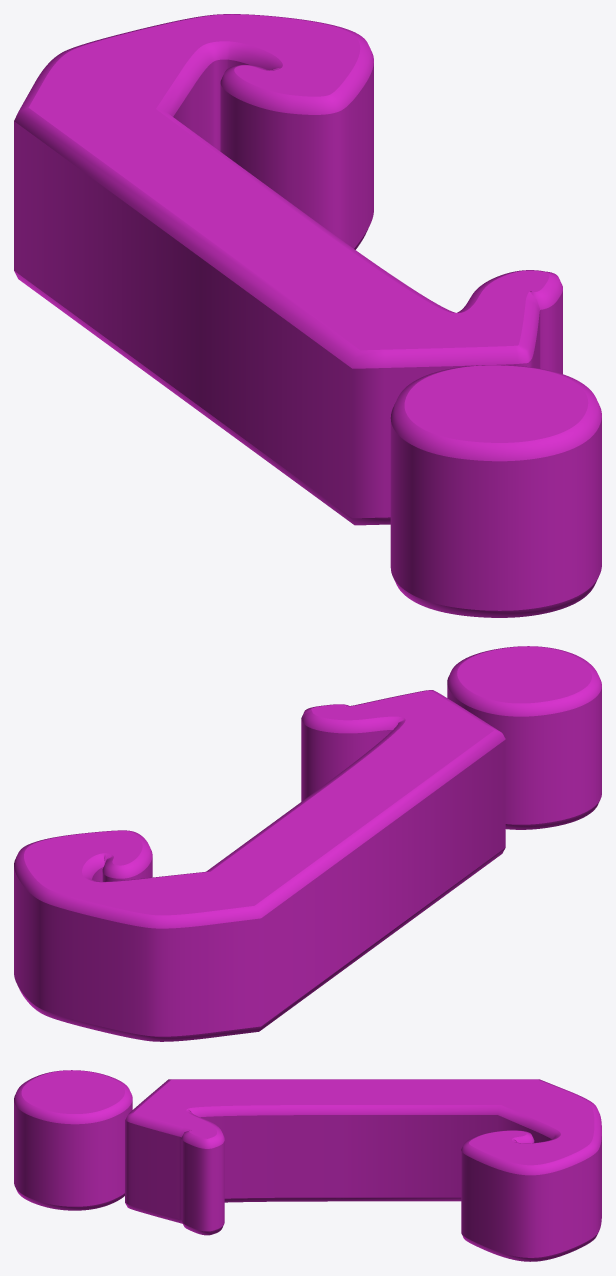
File: Letter_j_Small.fbx
The picture shows the model from 3 angles, top to bottom: view 1: azimuth 30°, elevation 25°; view 2: azimuth 150°, elevation 25°; view 3: azimuth 270°, elevation 25°; orthographic projection. The views are drawn at different scales.
Visible parts, largest first — view 1: Letter_j; view 2: Letter_j; view 3: Letter_j.
Boxes of the visible parts, box(x1,y1,x2,y2) form: Letter_j: box(14, 14, 601, 617); Letter_j: box(14, 646, 601, 1041); Letter_j: box(14, 1070, 601, 1261).
Bounding box in the file's own units: 0.3159 × 0.14 × 0.7749.
